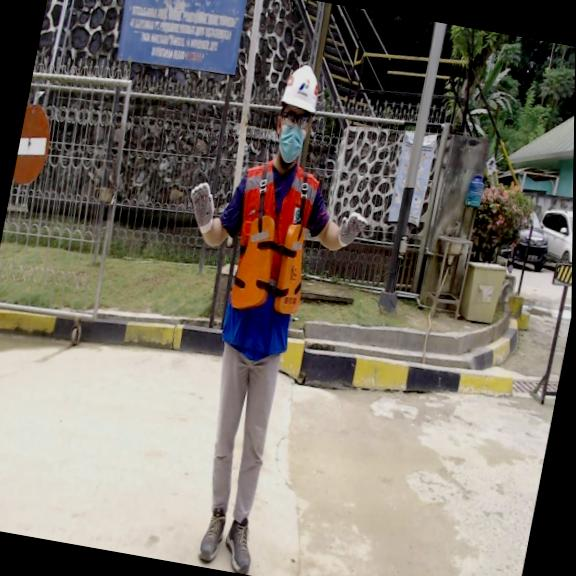safety_vest: (227, 214, 315, 320)
